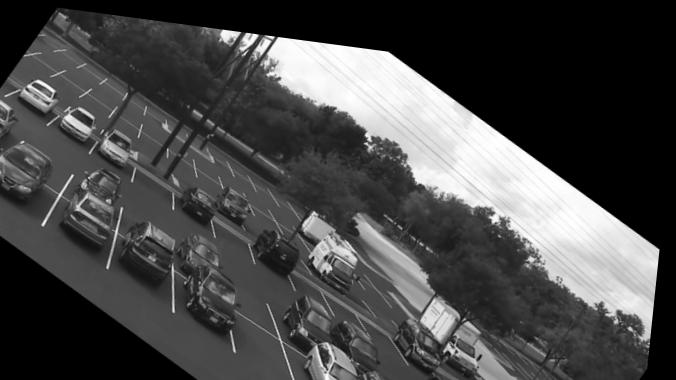empty: (246, 304, 306, 380), (32, 129, 82, 171), (133, 161, 179, 206), (368, 309, 411, 350), (329, 283, 371, 319), (245, 268, 275, 315), (219, 216, 255, 254), (359, 260, 393, 292), (134, 197, 169, 227), (79, 90, 116, 118), (298, 266, 333, 295), (52, 72, 89, 98), (170, 145, 201, 175), (140, 125, 170, 155), (110, 108, 141, 136), (393, 355, 425, 380), (23, 52, 59, 74), (283, 215, 312, 242), (255, 199, 285, 225), (63, 66, 95, 90), (115, 102, 147, 125), (169, 132, 195, 160), (90, 84, 122, 106), (123, 87, 149, 113), (196, 149, 223, 174), (144, 116, 170, 141), (47, 75, 74, 99), (275, 198, 301, 222), (12, 61, 39, 84), (212, 139, 234, 167), (223, 163, 247, 188), (249, 184, 276, 206), (102, 75, 130, 95), (40, 51, 69, 70), (199, 162, 224, 184), (277, 186, 301, 208), (236, 158, 257, 183), (146, 100, 168, 123), (82, 61, 107, 81), (258, 173, 278, 195), (0, 78, 22, 97), (37, 34, 63, 50), (58, 49, 84, 65), (250, 212, 275, 224), (182, 170, 202, 183), (29, 41, 44, 51)
occupied: (186, 256, 245, 331), (0, 136, 61, 206), (63, 181, 121, 250), (126, 215, 180, 288), (397, 307, 456, 365), (302, 332, 370, 380), (312, 222, 363, 285), (334, 308, 388, 362), (254, 221, 304, 278), (286, 286, 336, 337), (181, 230, 223, 270), (18, 78, 61, 117), (182, 181, 220, 222), (218, 179, 257, 218), (60, 105, 97, 141), (100, 126, 134, 165), (89, 166, 124, 197), (362, 360, 408, 380), (0, 99, 20, 136), (428, 363, 467, 380)
